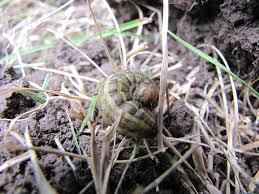fallarmy_worm: (92, 66, 167, 146)
